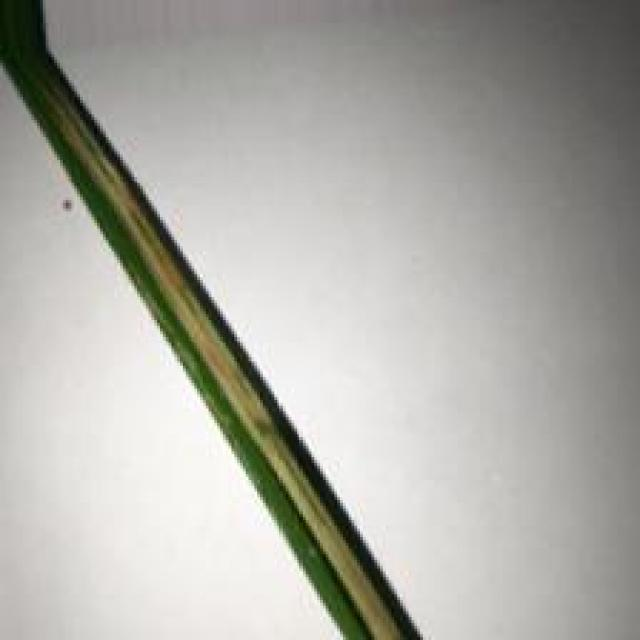Rice_Hispa: (43, 56, 416, 640)
